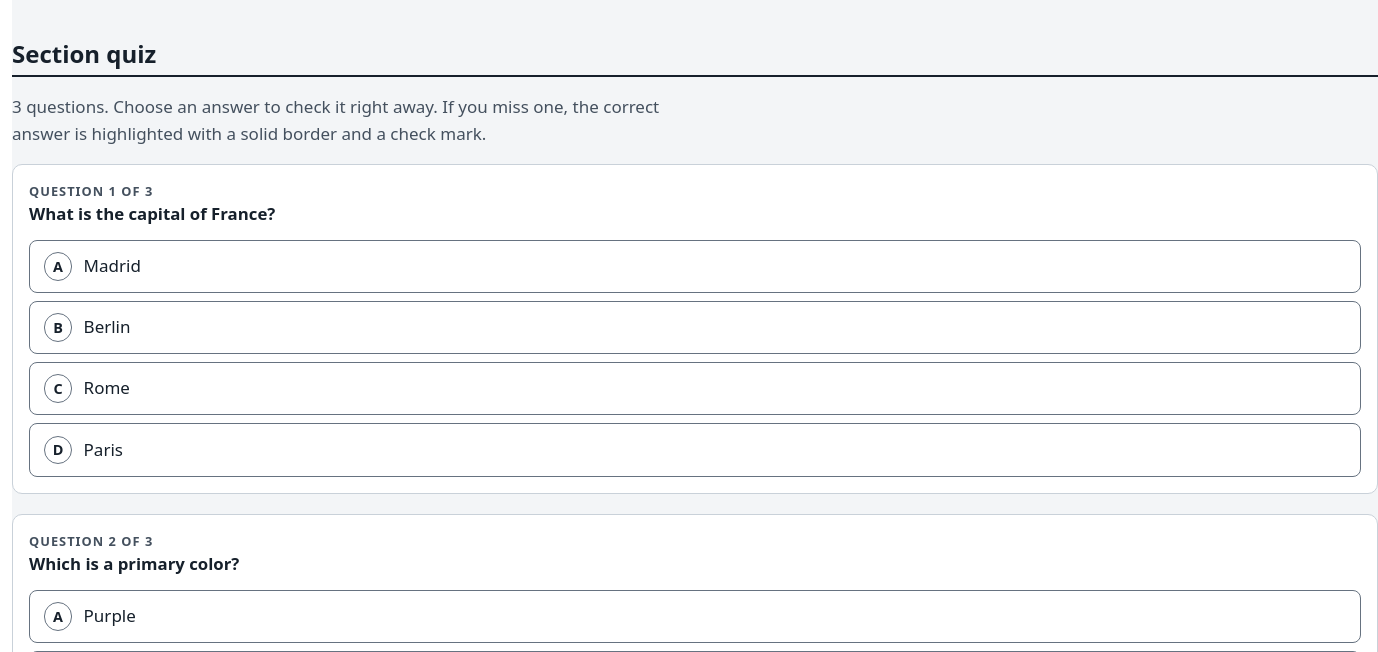
Test: Quiz › confirms a correct answer
Click the button "D Paris": coordinates (103, 449) left=29, top=423, right=1361, bottom=477
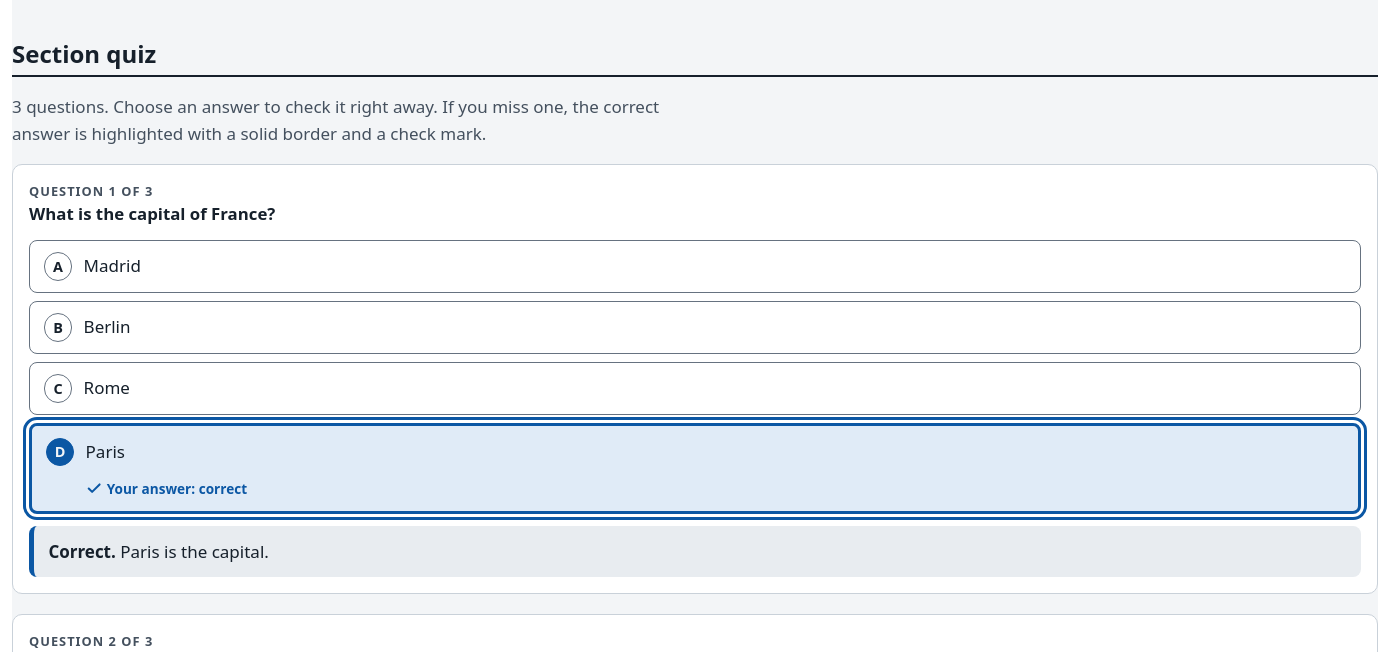
Expected: the message with test id "feedback-0" reads "Correct. Paris is the capital.", left=29, top=526, right=1361, bottom=577
